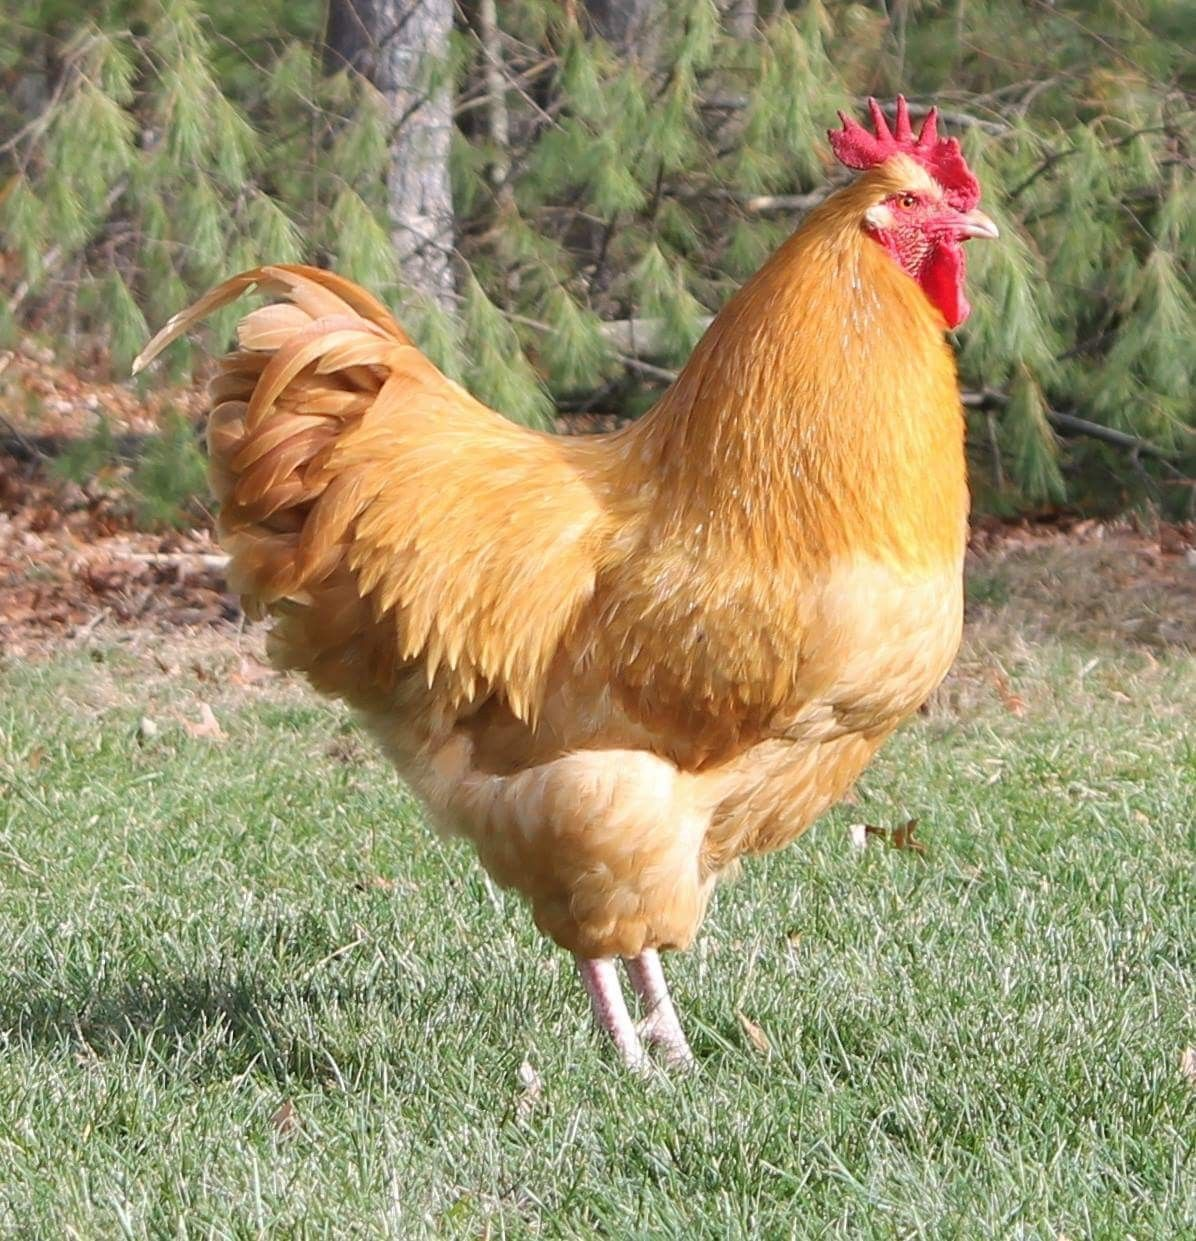buff: (129, 83, 1029, 1098)
